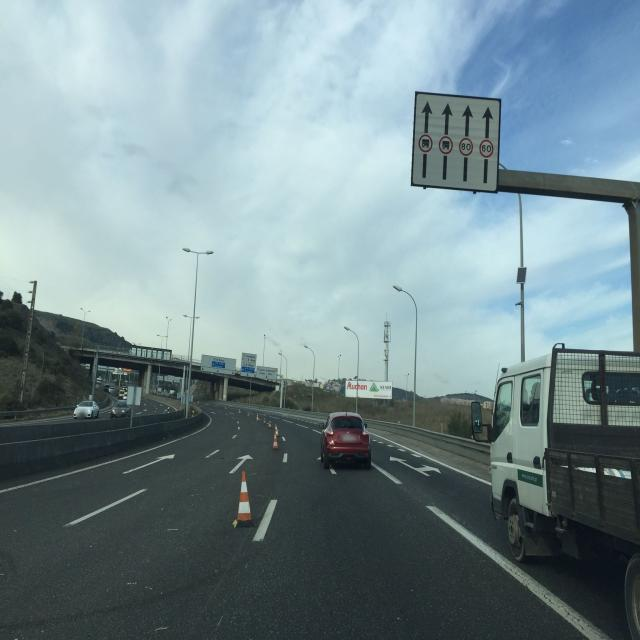car: (321, 410, 372, 470), (72, 400, 100, 420), (110, 400, 132, 419)
